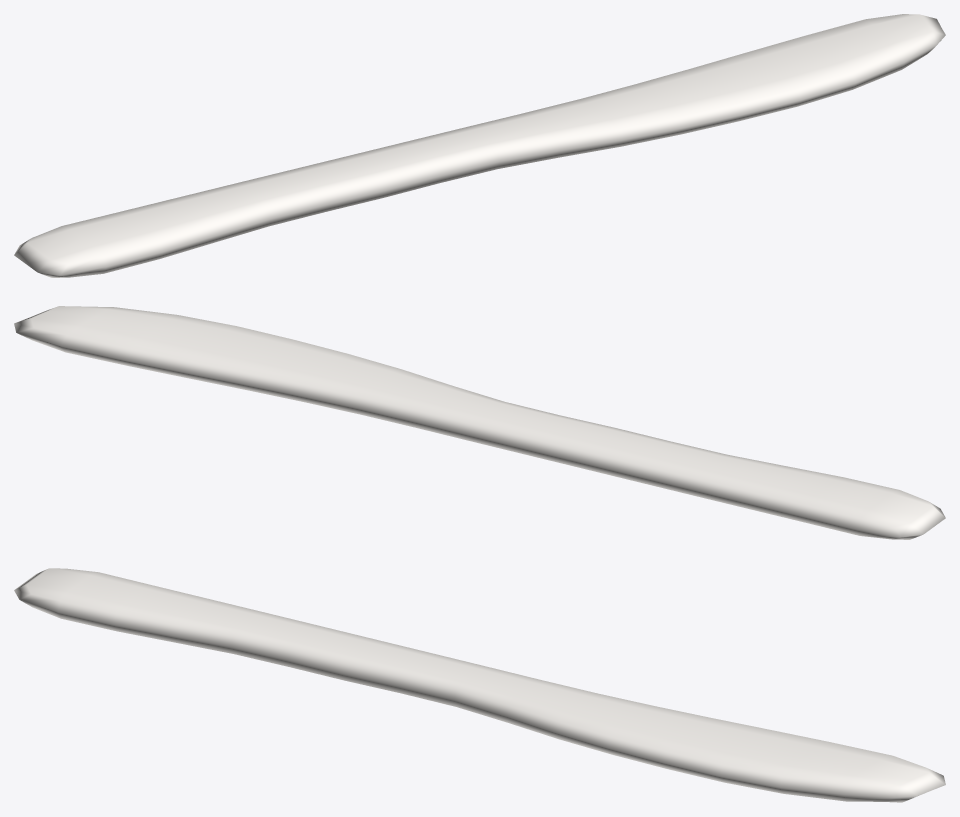
Rendered from Knife.fbx.
The picture shows the model from 3 angles, top to bottom: view 1: azimuth 30°, elevation 25°; view 2: azimuth 150°, elevation 25°; view 3: azimuth 330°, elevation 25°; orthographic projection. The views are drawn at different scales.
Visible parts, largest first — view 1: Knife1; view 2: Knife1; view 3: Knife1.
Boxes of the visible parts, left/top/right/bottom form: Knife1: left=14, top=14, right=945, bottom=277; Knife1: left=14, top=306, right=945, bottom=539; Knife1: left=14, top=568, right=945, bottom=802.
Bounding box in the file's own units: 12.62 × 0.3131 × 1.43.
